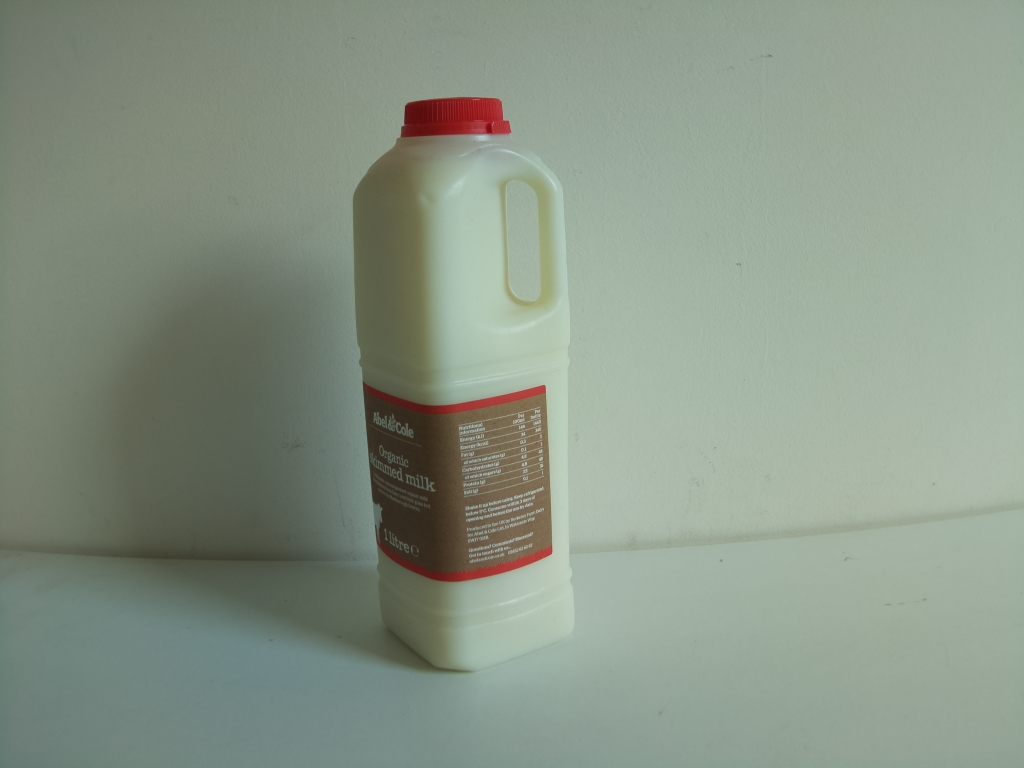milk: (342, 89, 594, 680)
